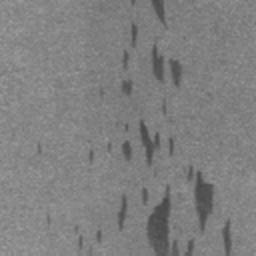Red iron sheet: (116, 184, 195, 256), (187, 165, 232, 256), (122, 122, 174, 168), (151, 46, 182, 87), (122, 23, 138, 68), (150, 1, 170, 29), (78, 230, 101, 248), (122, 81, 132, 96), (161, 99, 165, 114), (88, 151, 93, 161)
